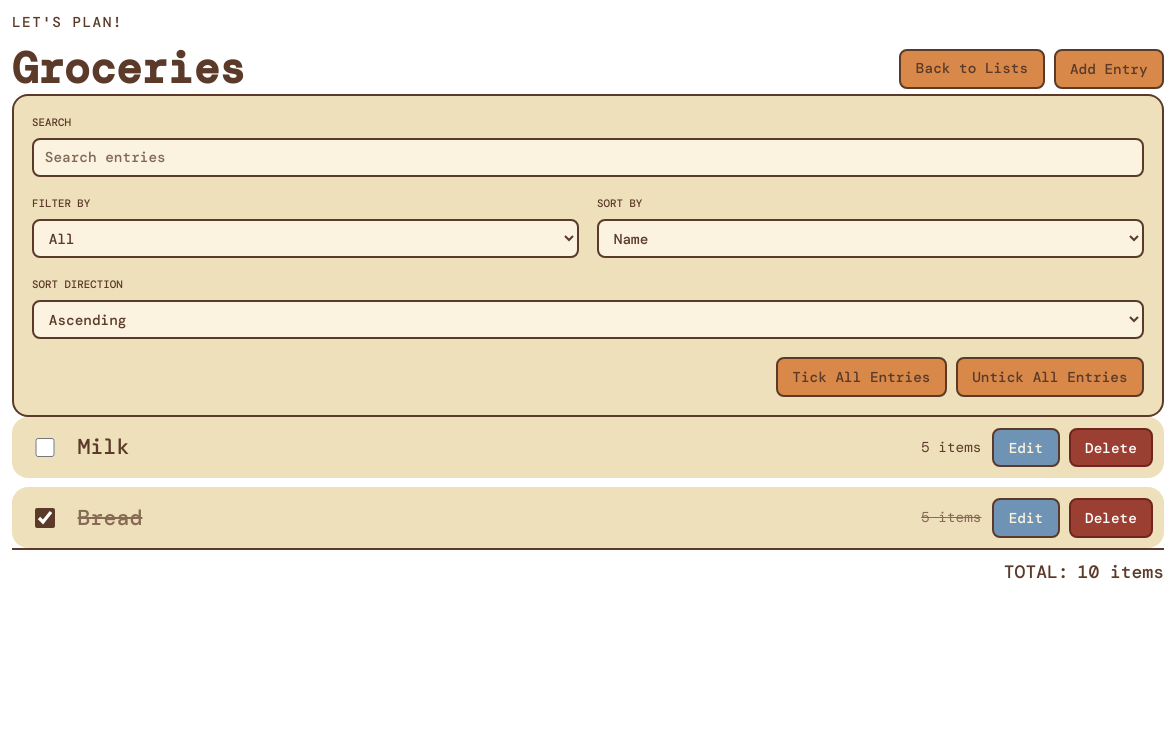
it: ListPage › submits only matching items for Tick All Entries
The image size is (1176, 732).
Click the button "Tick All Entries" at (861, 377), box [776, 357, 947, 397]
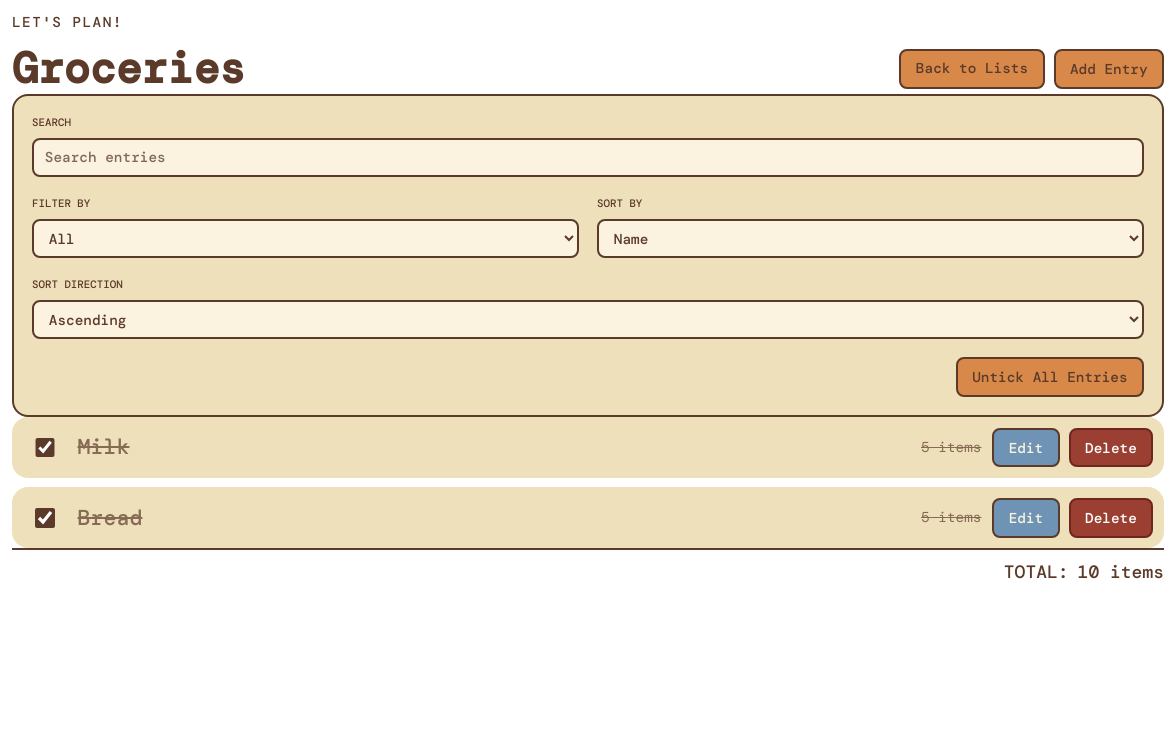
expect the checkbox named "Mark Milk as not completed" next to "Milk" is checked: met, box [35, 438, 55, 457]
